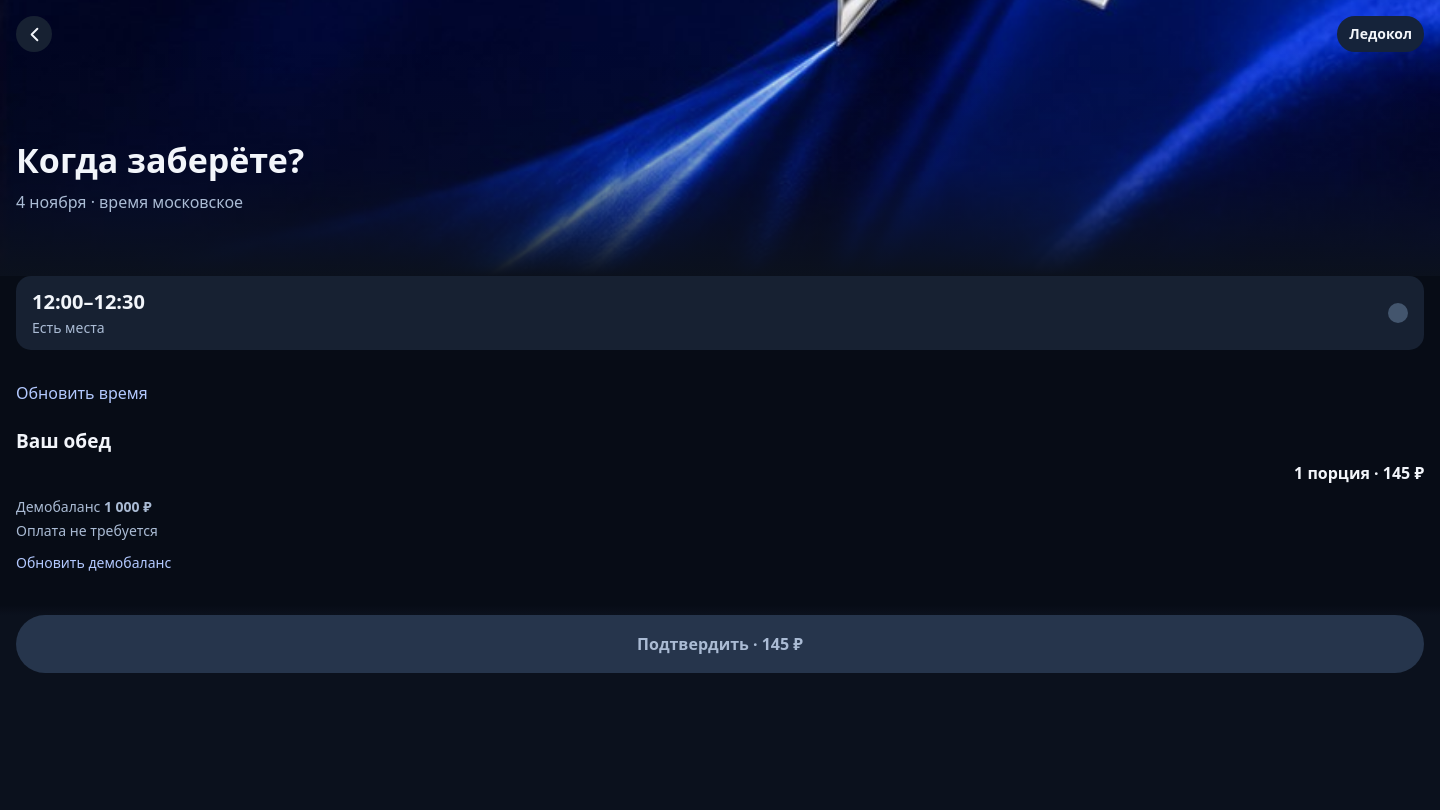
Test case: cancellation needs inline confirmation; version conflict refreshes to preparing
Click the button with aria-label "12:00–12:30 · Есть места".
click(88, 302)  # box left=16, top=276, right=1424, bottom=350
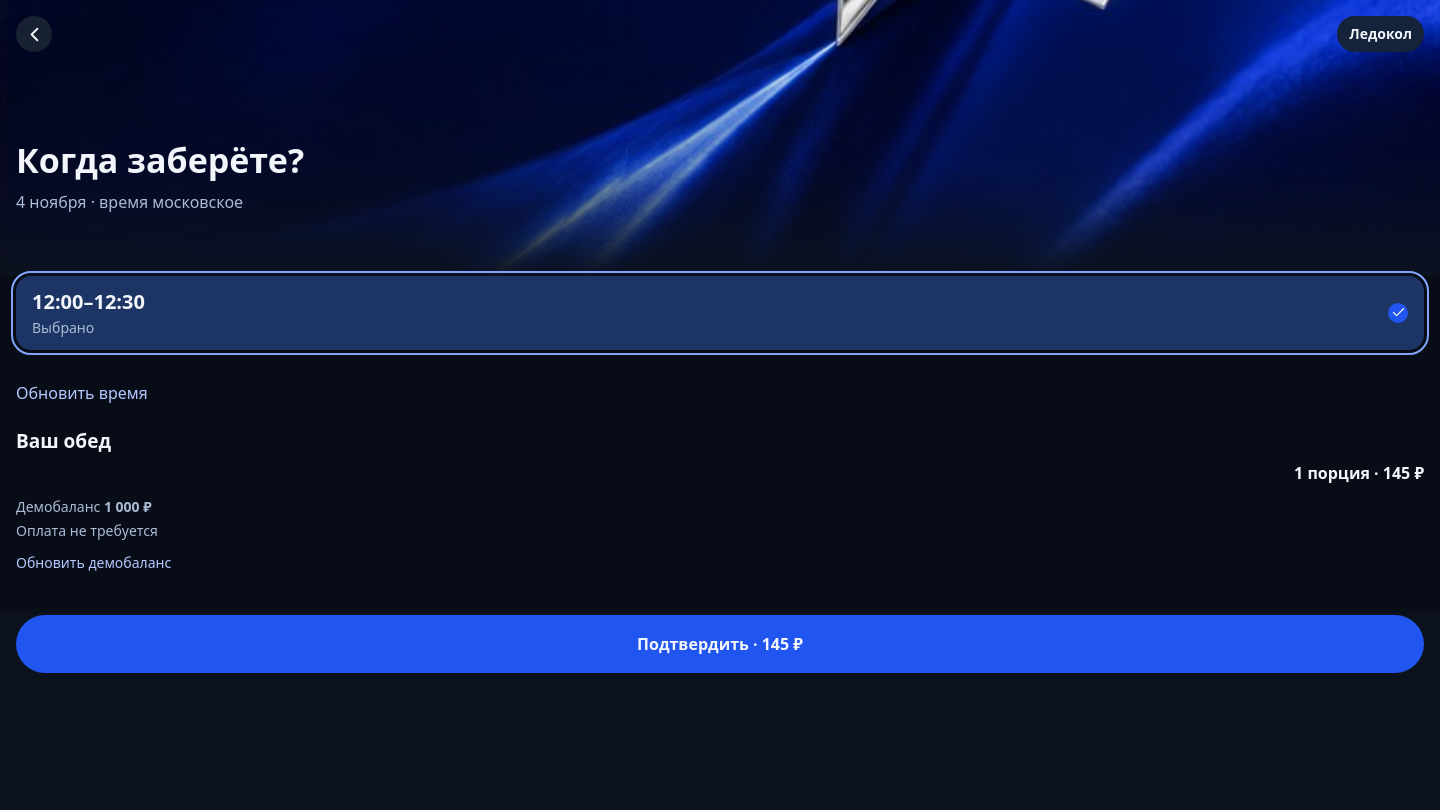
Click the button "Подтвердить · 145 ₽".
click(720, 644)  # box left=16, top=615, right=1424, bottom=673
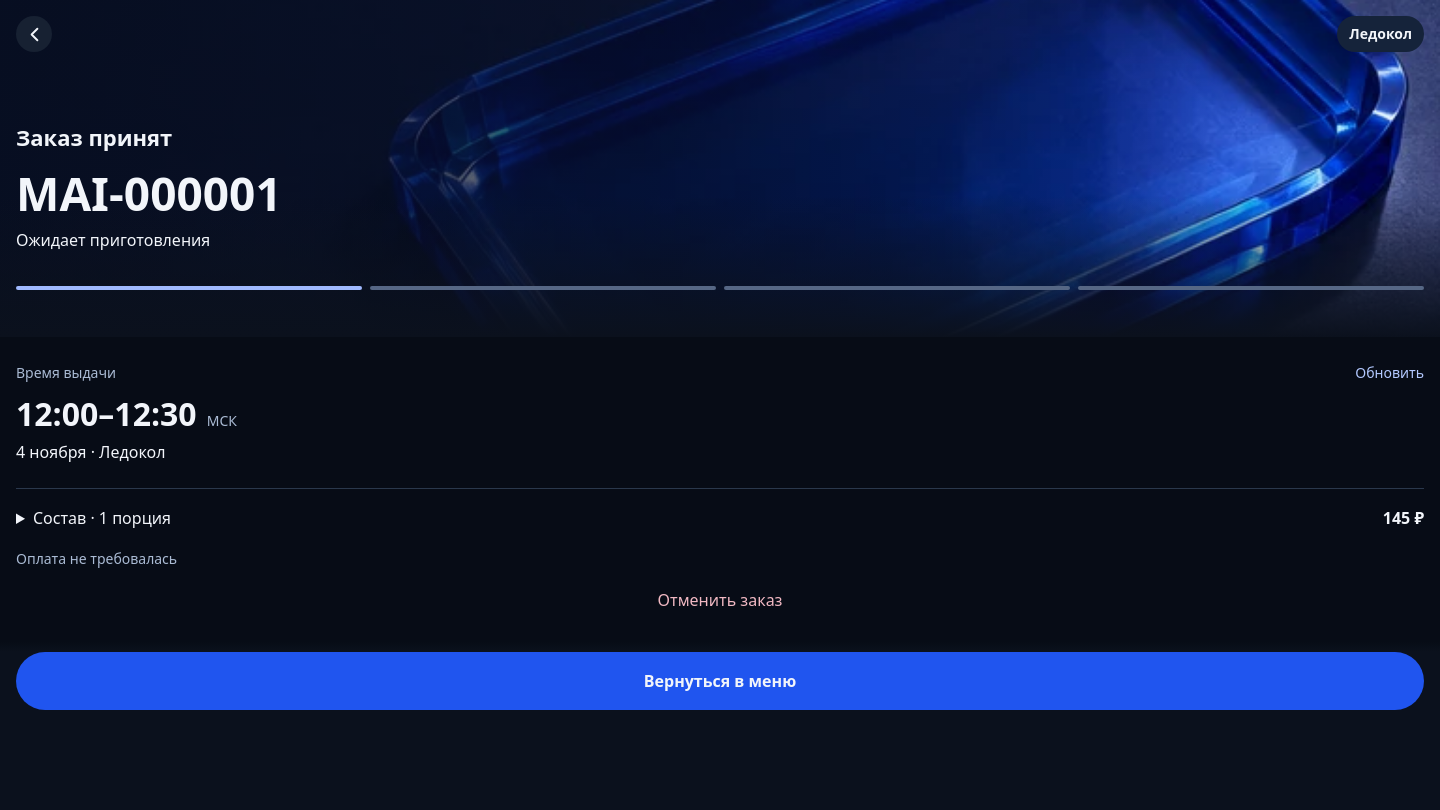
Expected: the element named "Талон заказа" is shown
Click the button "Отменить заказ".
click(720, 600)  # box left=658, top=578, right=782, bottom=622
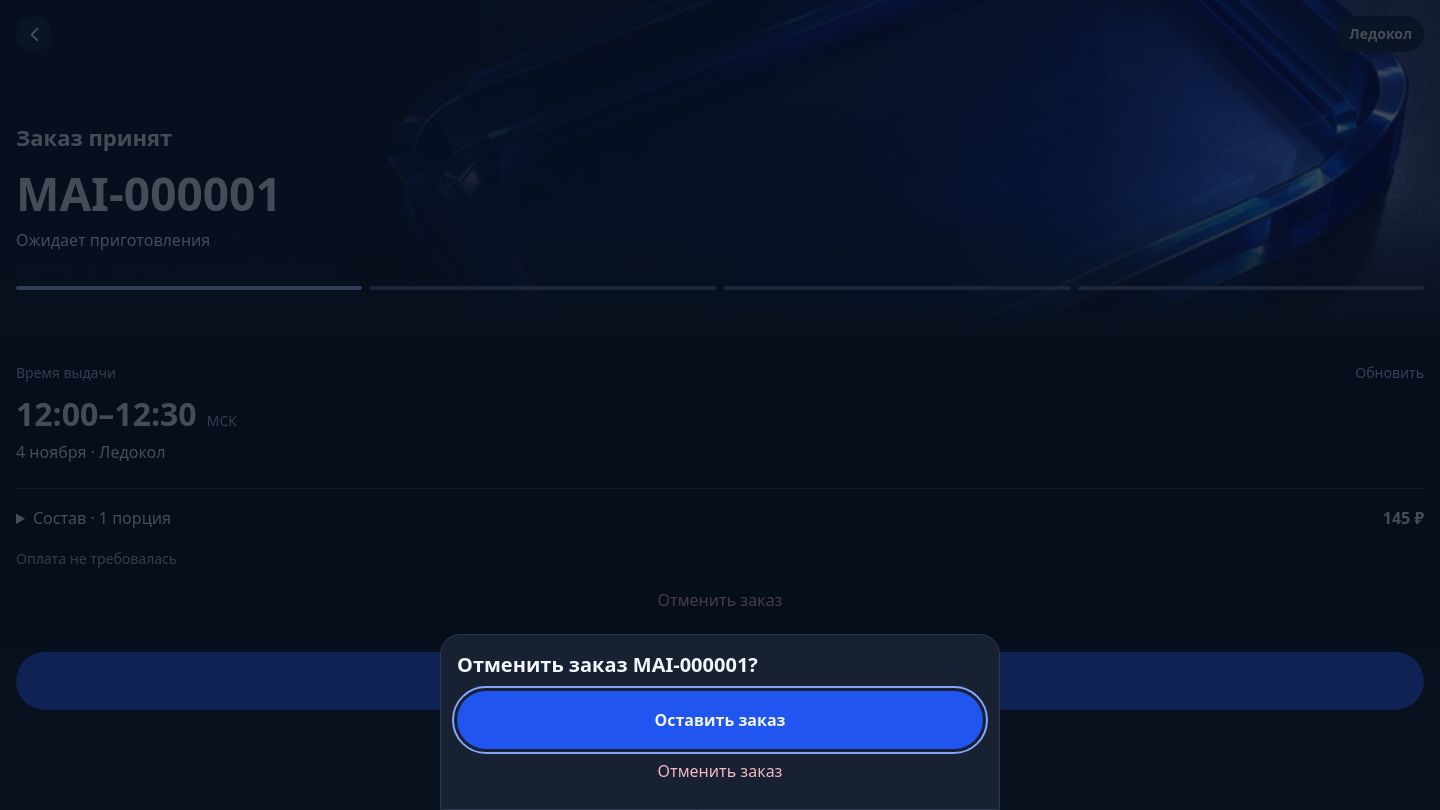
Click the button "Оставить заказ".
click(720, 720)  # box left=457, top=691, right=983, bottom=749
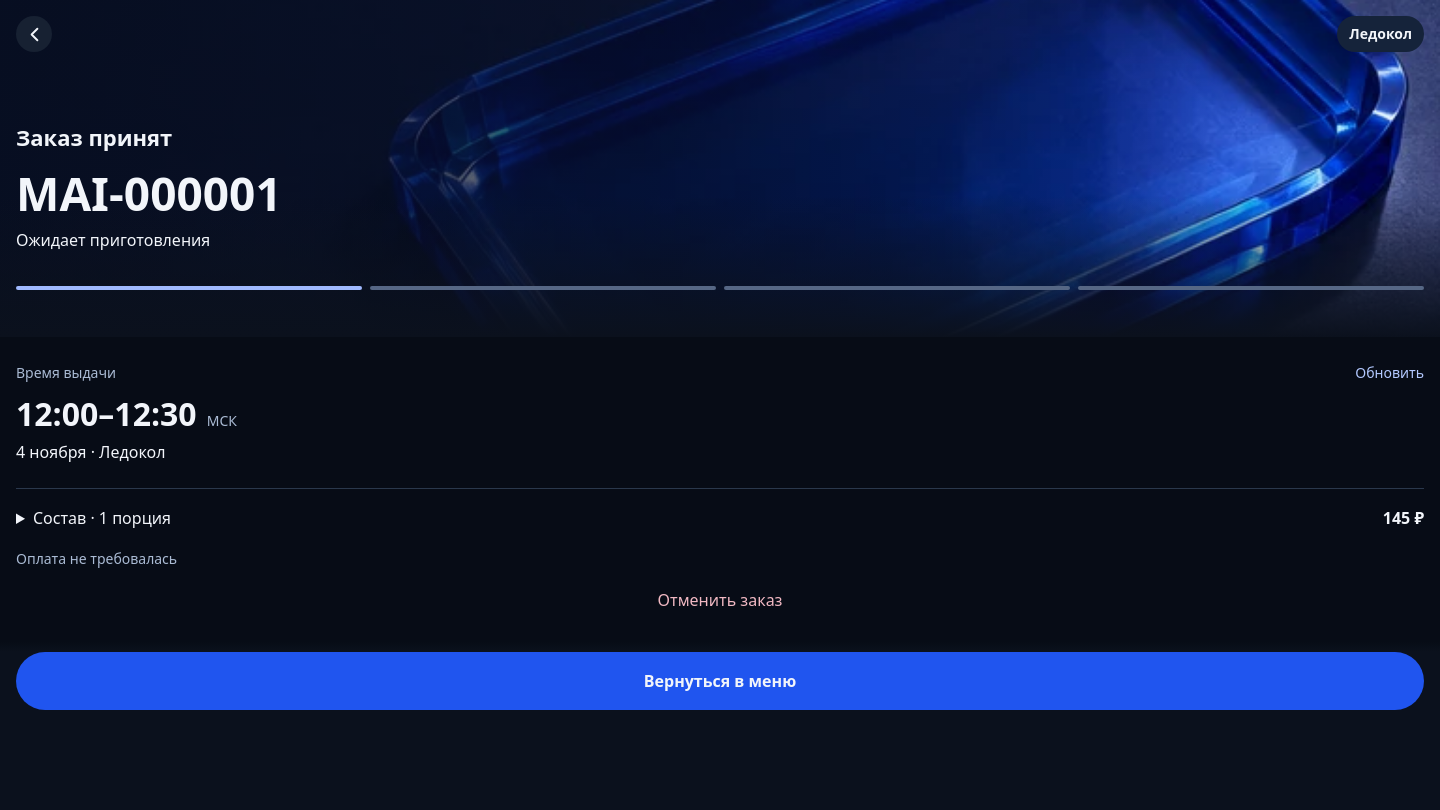
Click the button "Отменить заказ".
click(720, 600)  # box left=658, top=578, right=782, bottom=622
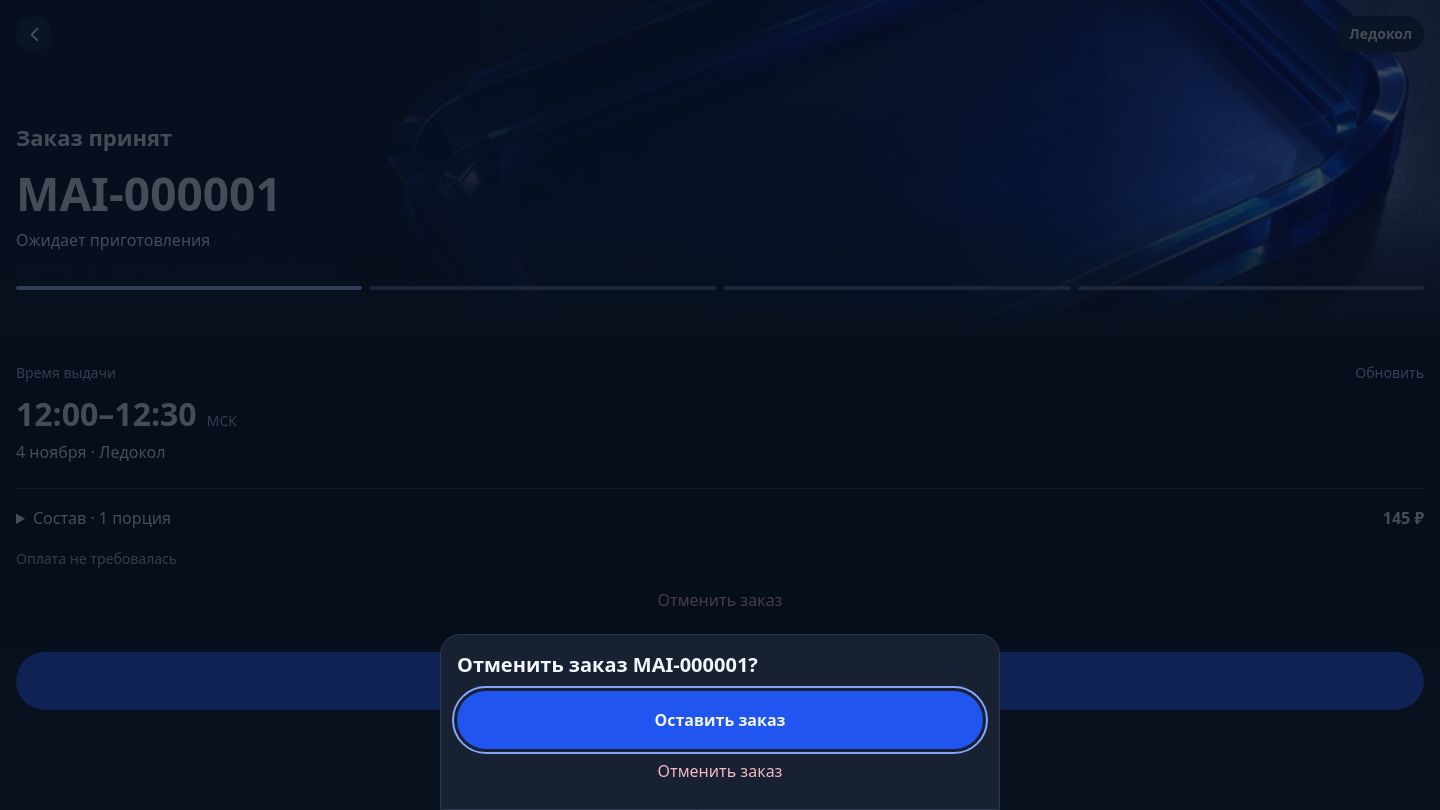
Click the button "Отменить заказ" below "Отменить заказ MAI-000001?".
click(720, 771)  # box left=658, top=749, right=782, bottom=793
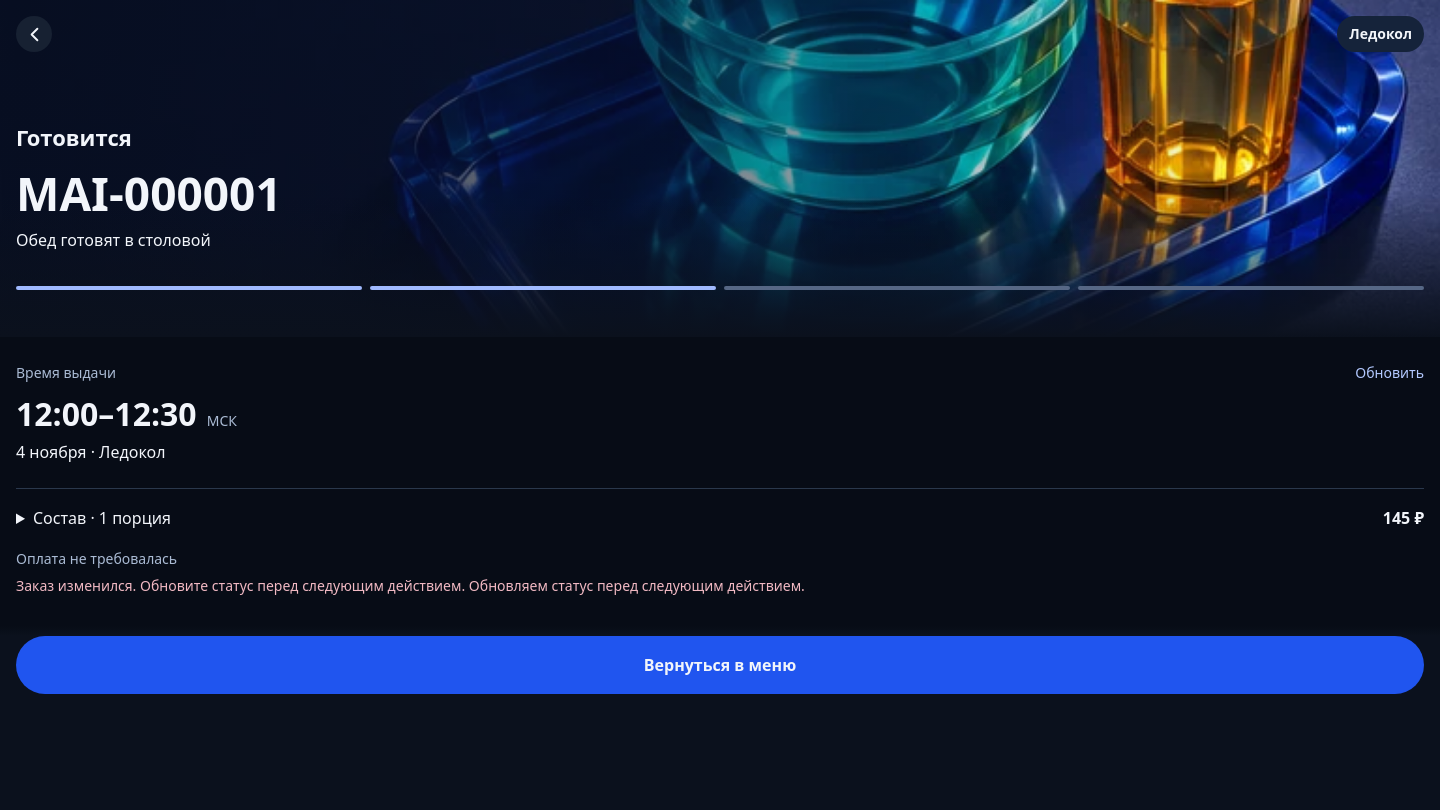
Expected: the button "Отменить заказ" is gone
Expected: the element named "Талон заказа" shows "Готовится", left=16, top=122, right=132, bottom=152
